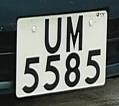5: (20, 54, 43, 96), (41, 52, 64, 94), (82, 47, 105, 87)
8: (62, 51, 84, 89)
M: (64, 13, 86, 55)
U: (39, 18, 67, 54)
